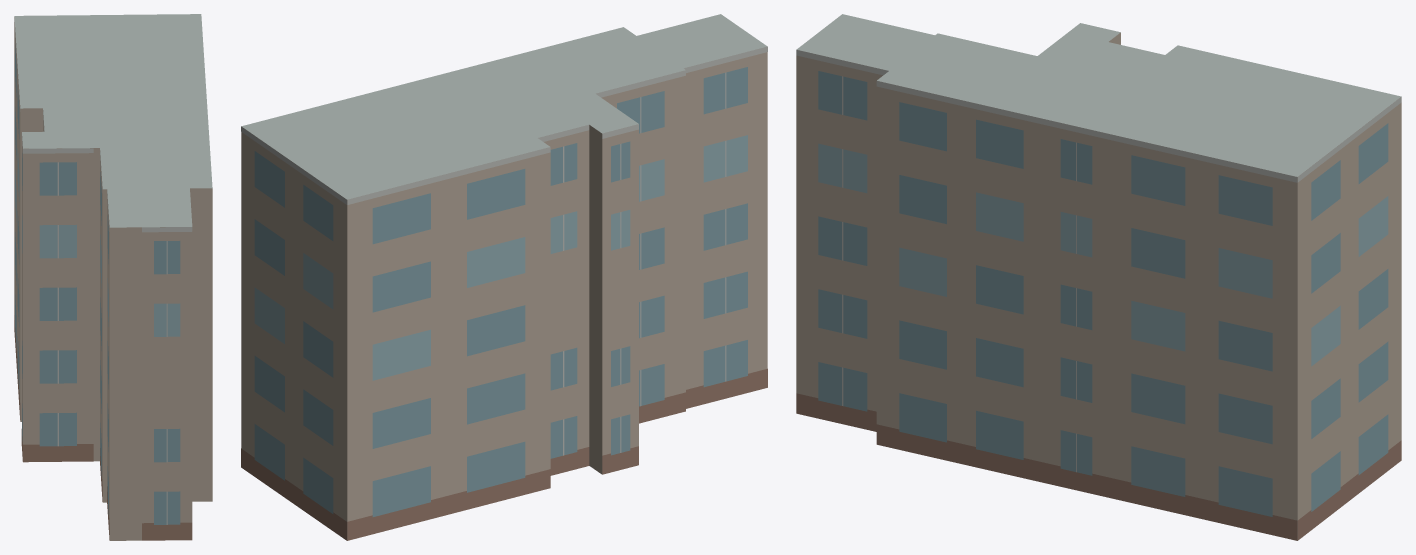
The model's file is survey-upis-32983962.glb.
3 views of the same model, side by side, from view 1: azimuth 30°, elevation 25°; view 2: azimuth 150°, elevation 25°; view 3: azimuth 270°, elevation 25° (orthographic). The views are drawn at different scales.
Parts seen in each view (by area): view 1: survey-upis-32983962.tmp; view 2: survey-upis-32983962.tmp; view 3: survey-upis-32983962.tmp.
Boxes of the visible parts, x1,y1,x2,y2 form: survey-upis-32983962.tmp: (14,14,212,540); survey-upis-32983962.tmp: (241,14,767,540); survey-upis-32983962.tmp: (796,14,1401,540).
Bounding box in the file's own units: 14.66 × 15.25 × 23.
